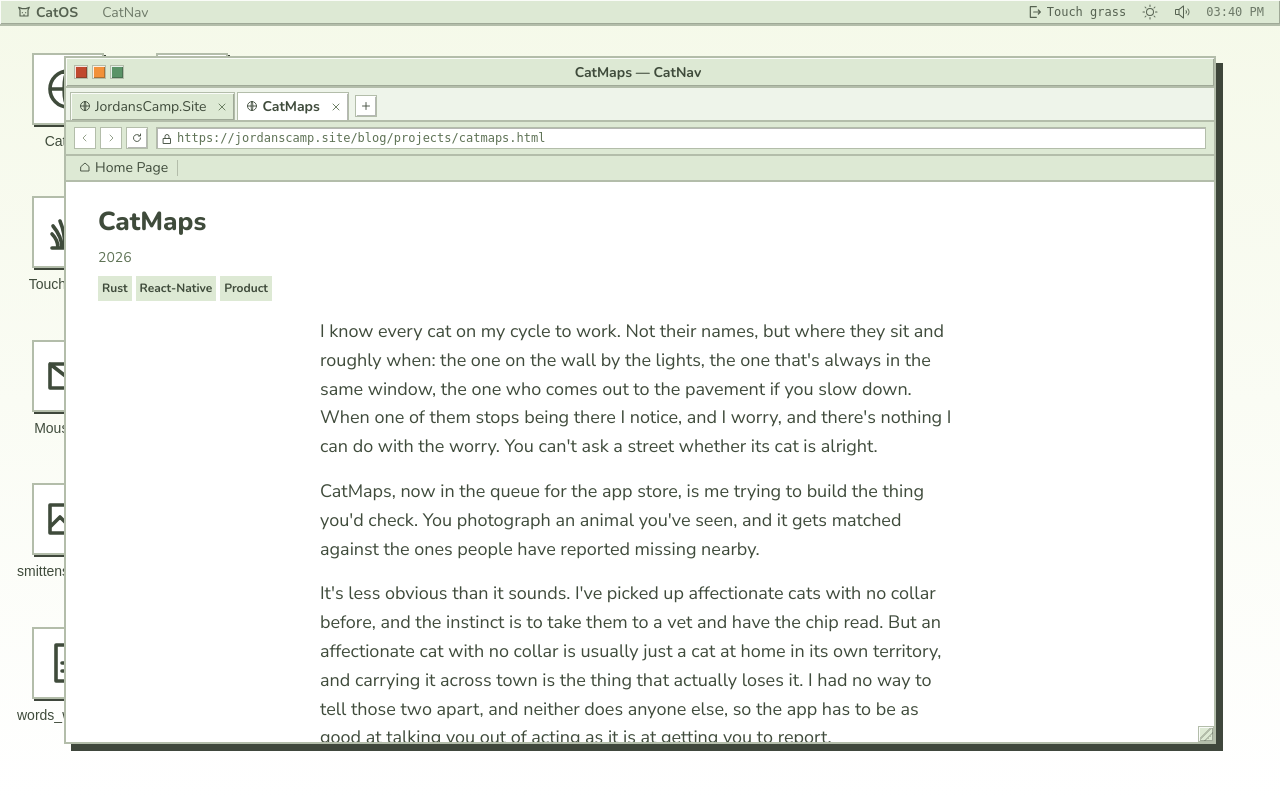
Test case: LaptopScreenOverlay (CatOS) › the browser window › the new-tab control opens the homepage, keeping the strip intact
This screenshot has width=1280, height=800.
Click the button named "New tab": [366, 106] box left=355, top=95, right=377, bottom=117
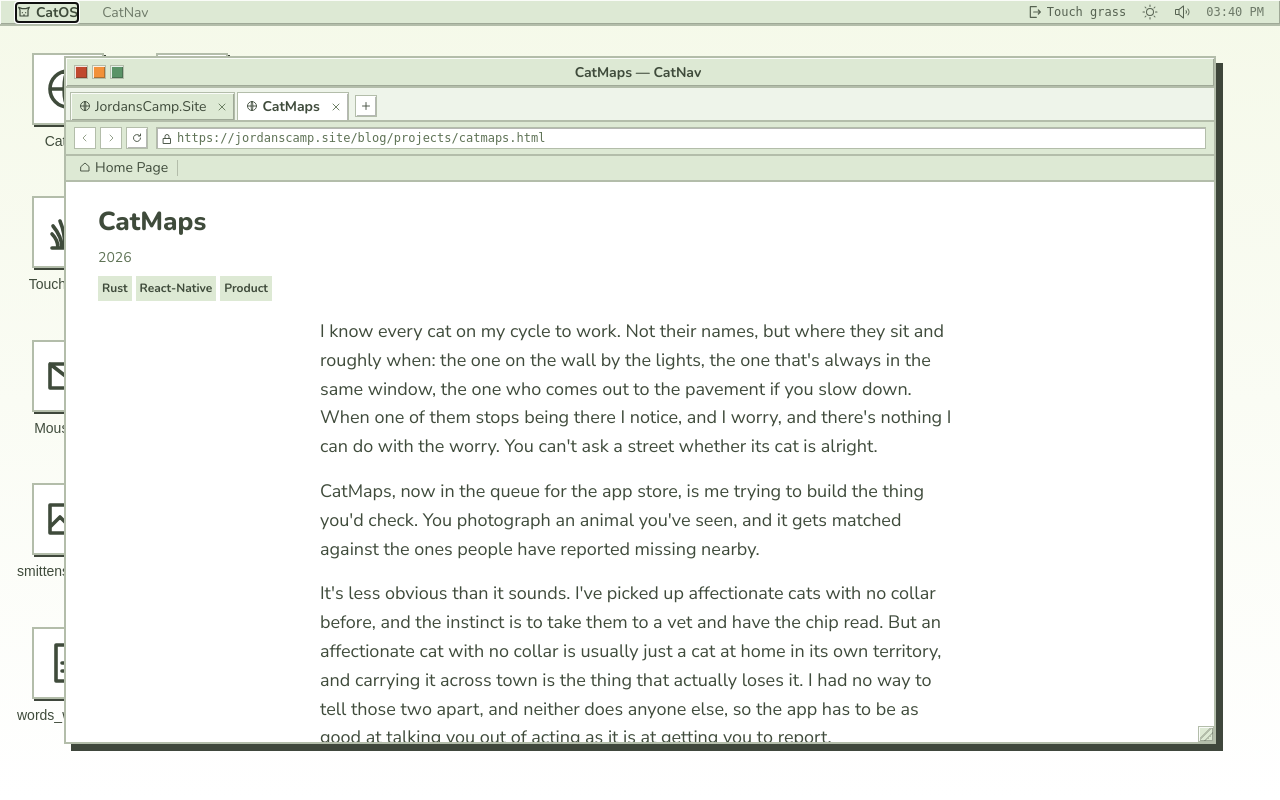
Expected: the text with test id "path" reads "/blog/index.html", left=0, top=0, right=117, bottom=22
